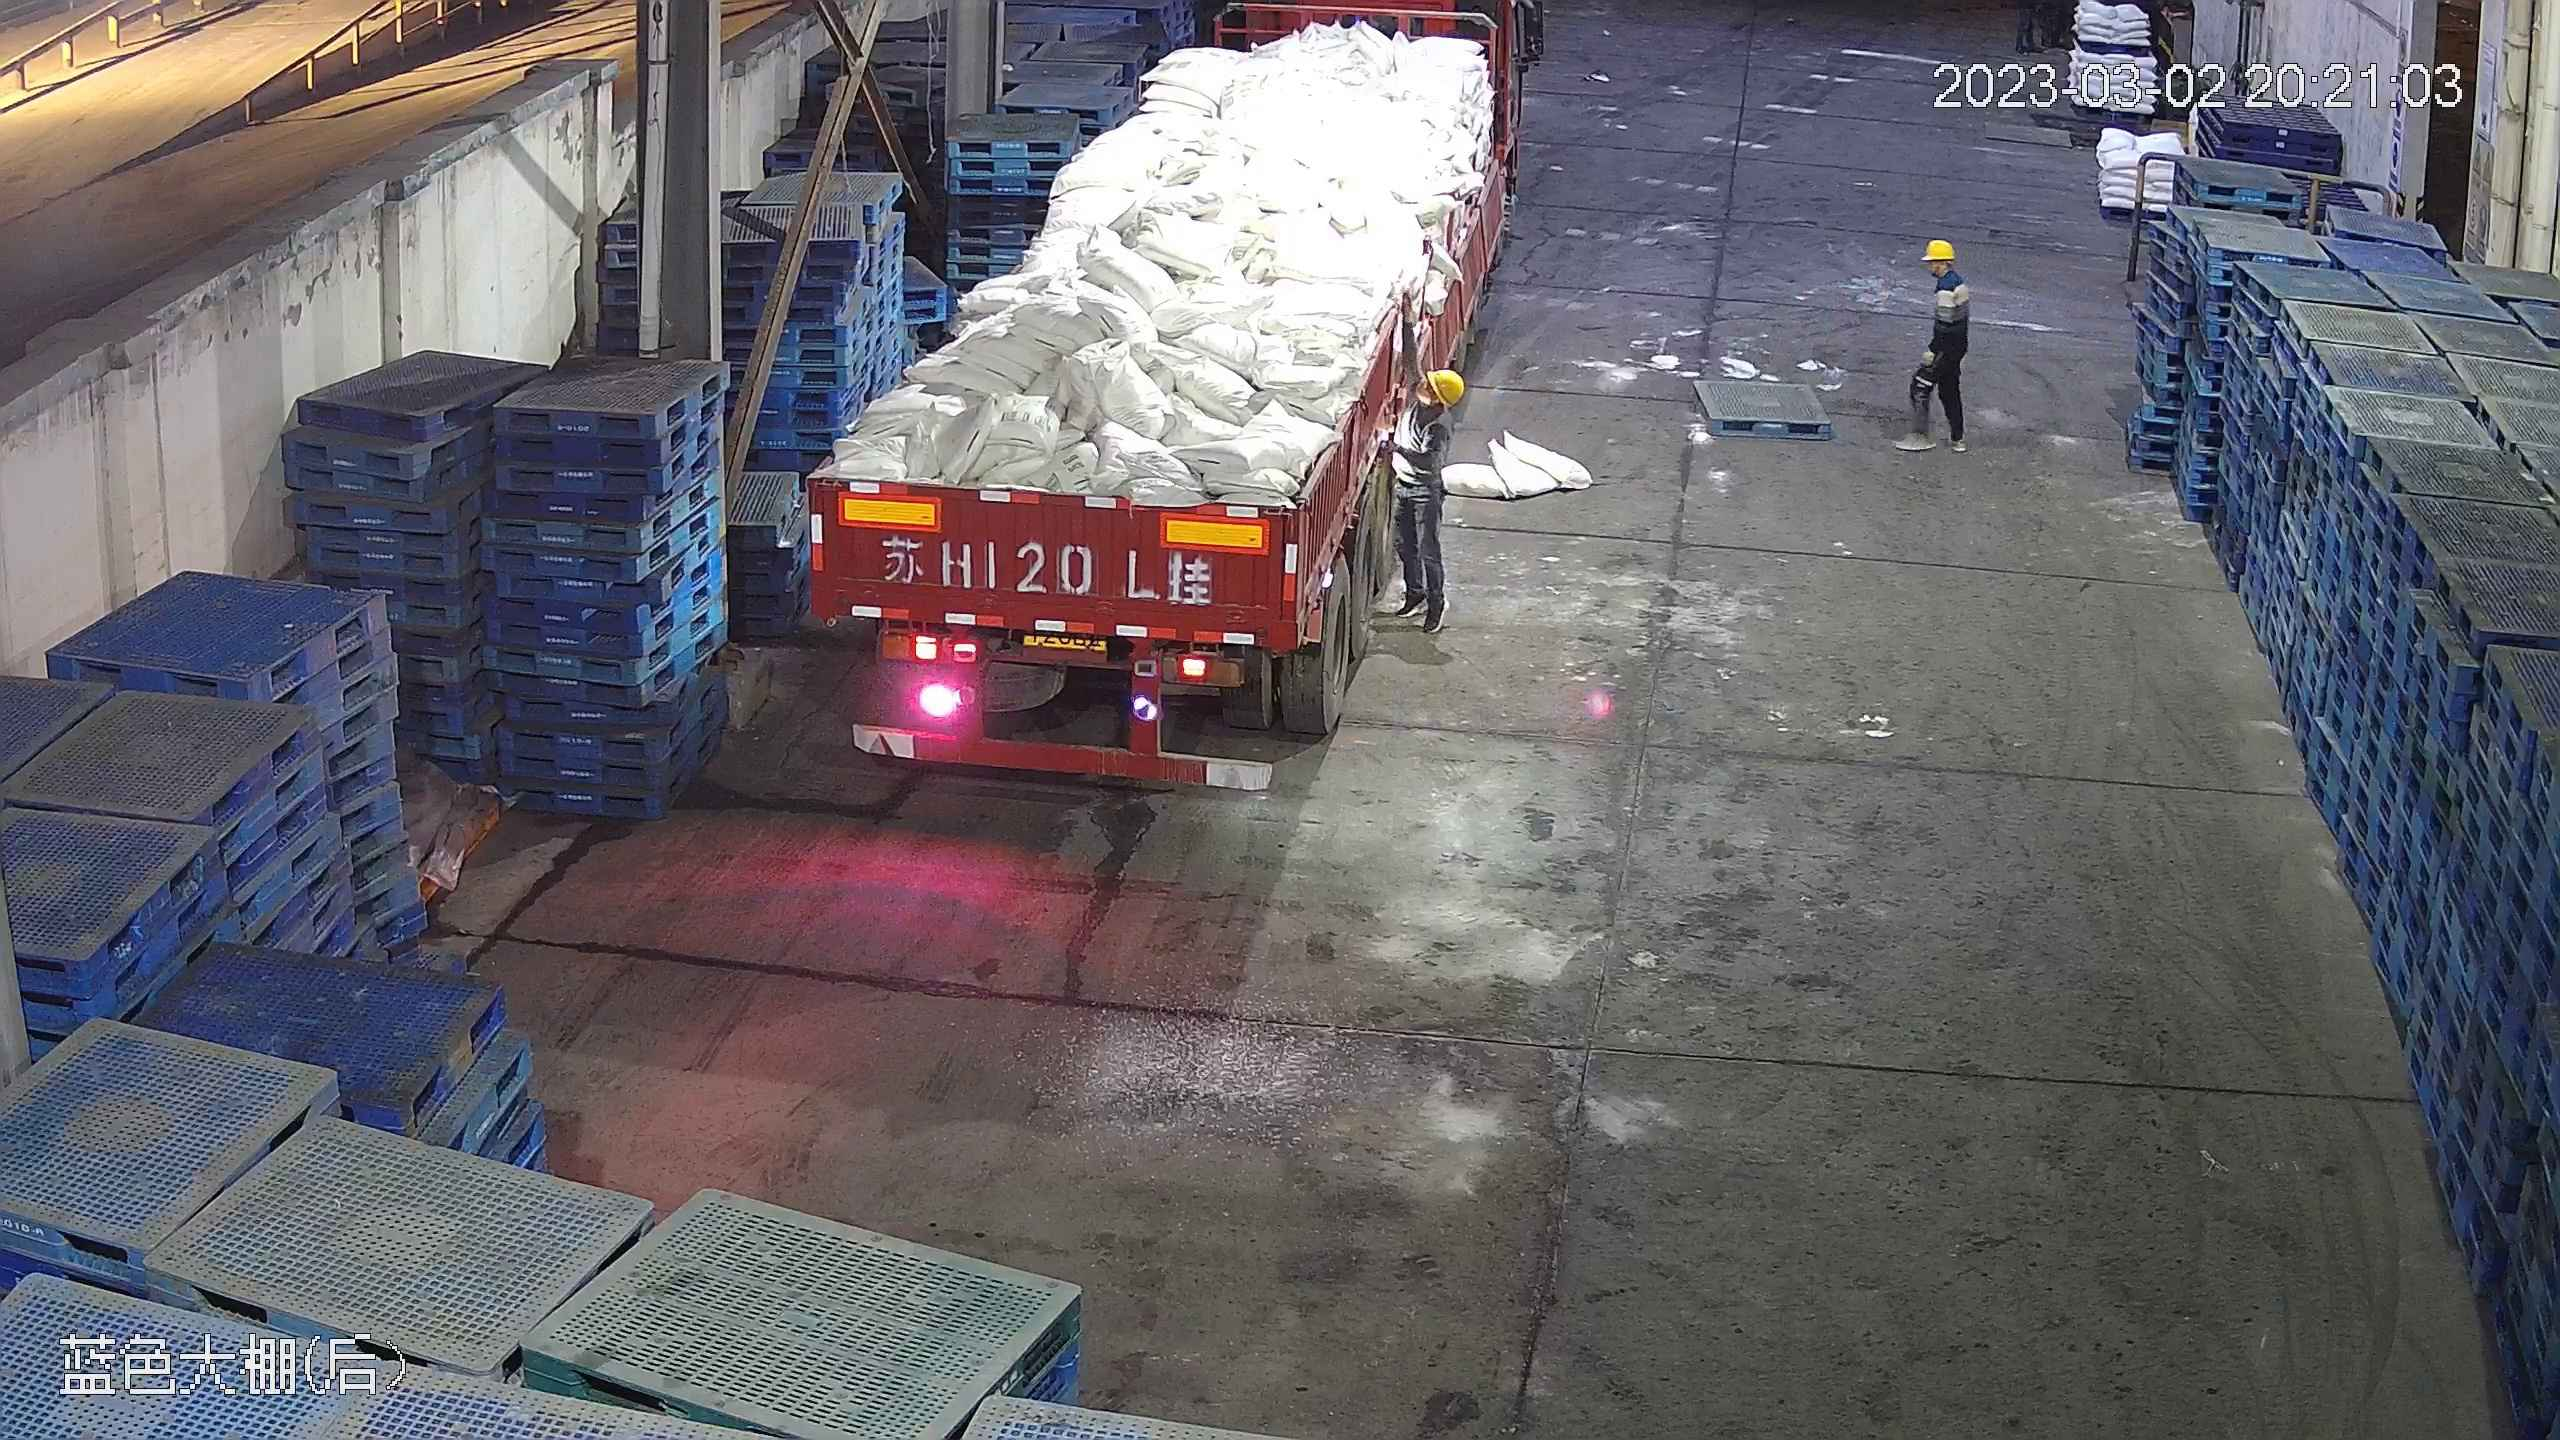head: (1392, 367, 1470, 458), (1921, 236, 1972, 303)
helmet: (1422, 368, 1466, 403), (1924, 237, 1956, 262)
people: (1380, 365, 1468, 640), (1907, 234, 1975, 449)
truck: (800, 3, 1541, 779)
